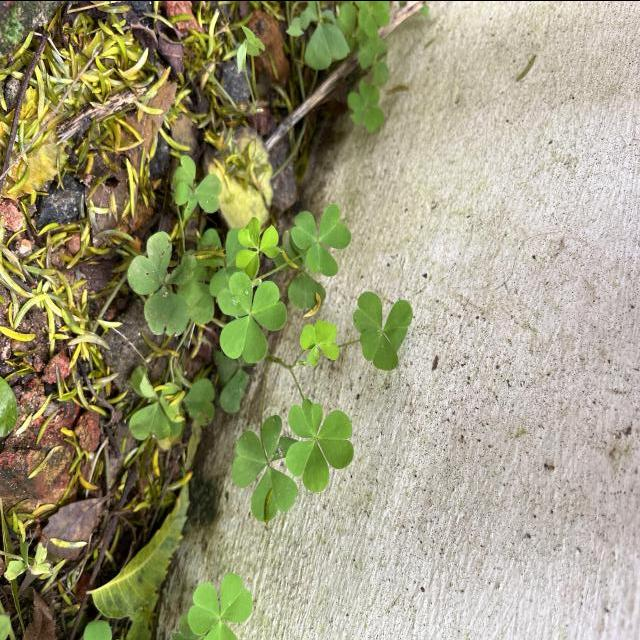Oxalis corniculata: (126, 228, 197, 338), (230, 413, 300, 522), (217, 270, 290, 363), (285, 398, 355, 490), (350, 288, 414, 372), (187, 570, 255, 640), (290, 202, 352, 278), (235, 214, 283, 278), (298, 318, 339, 367)
